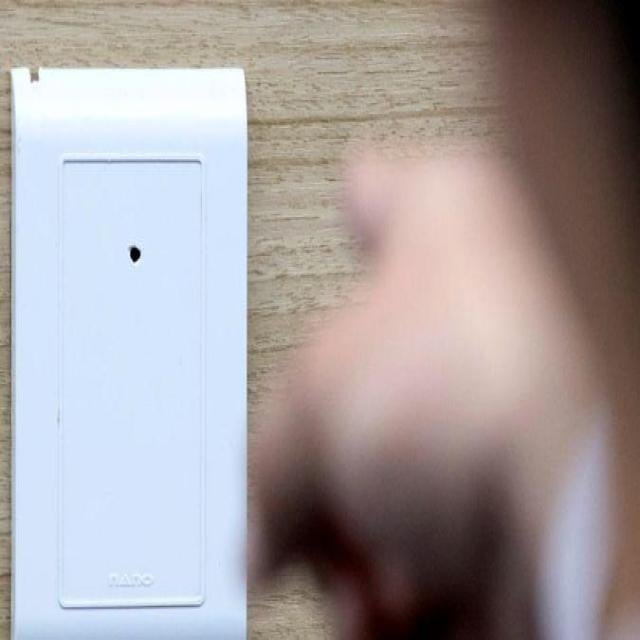hidden camera: (121, 229, 153, 276)
